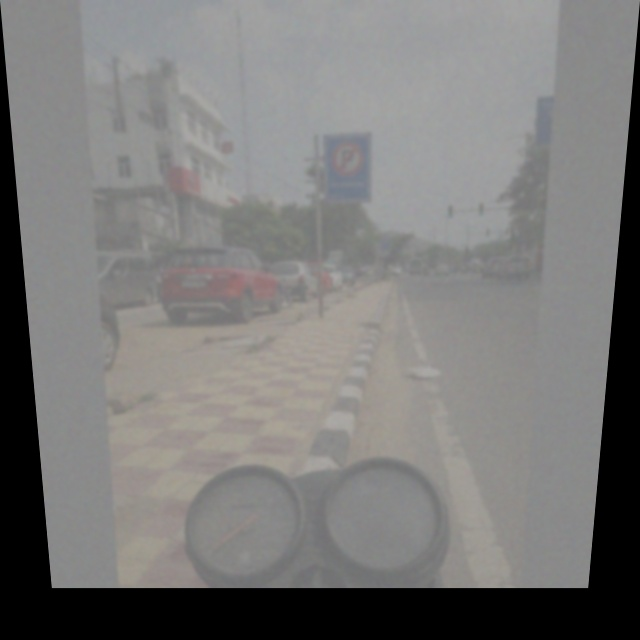No_Parking: (325, 134, 371, 181)
